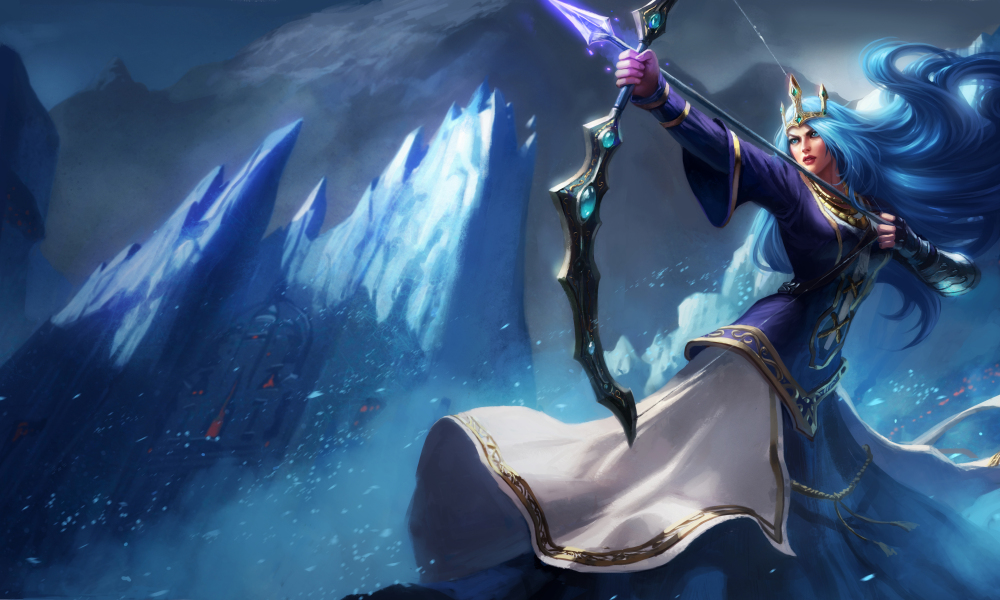face: (761, 64, 889, 198)
